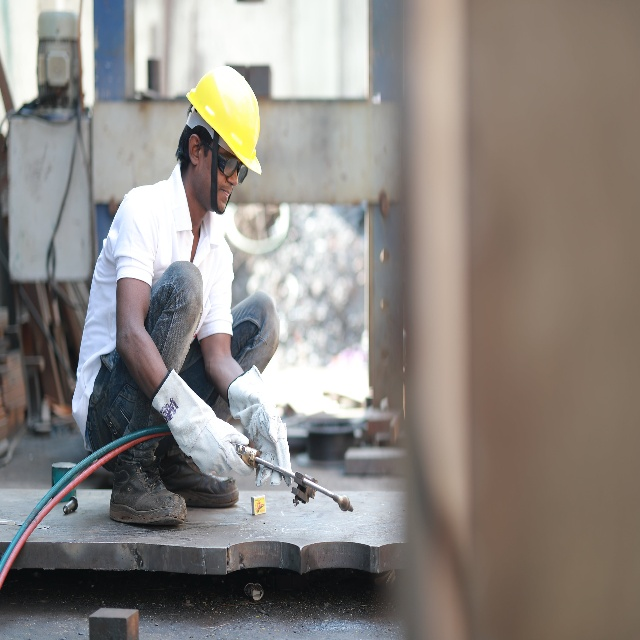Gafas: (198, 131, 248, 185)
Guantes: (149, 359, 254, 484), (226, 360, 295, 492)
